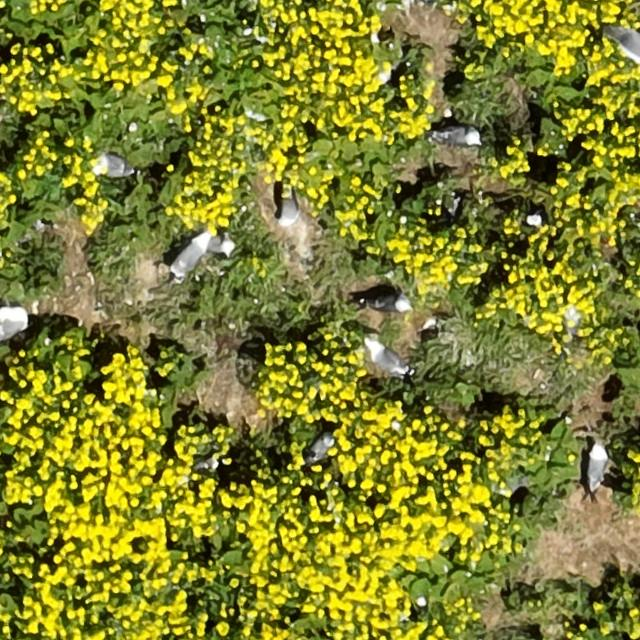umineko: (173, 236, 209, 272), (368, 346, 406, 375), (0, 305, 29, 341), (514, 208, 544, 238), (587, 446, 606, 488), (434, 126, 478, 144), (96, 156, 133, 177), (369, 296, 406, 313), (308, 435, 332, 461), (280, 196, 298, 225), (211, 238, 234, 256)
